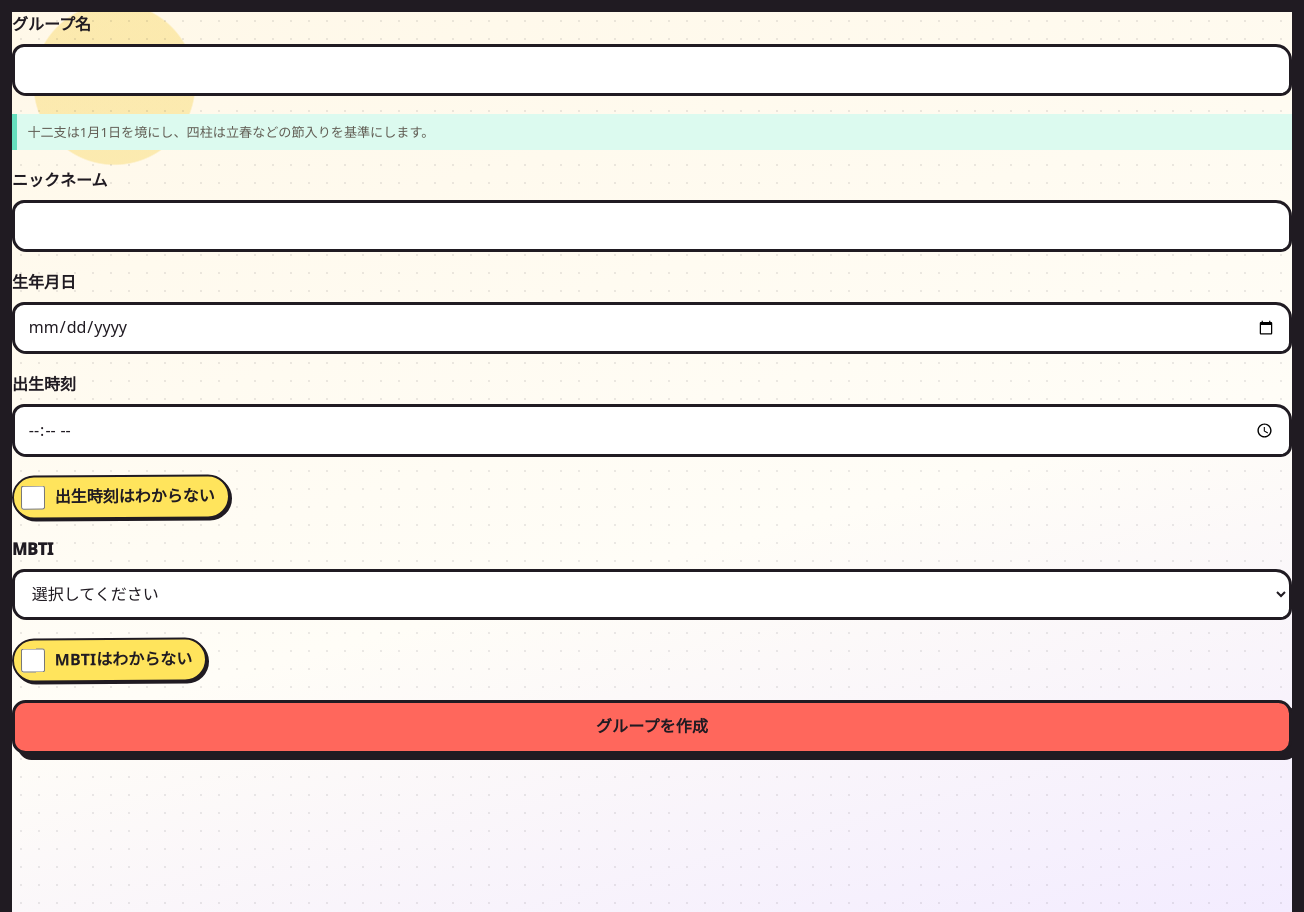
Test: CreateGroupForm › keeps retry data only in React memory after a navigation failure
Type "  なかまたち  " into the field labelled "グループ名" at (652, 70), box [12,44,1292,96]
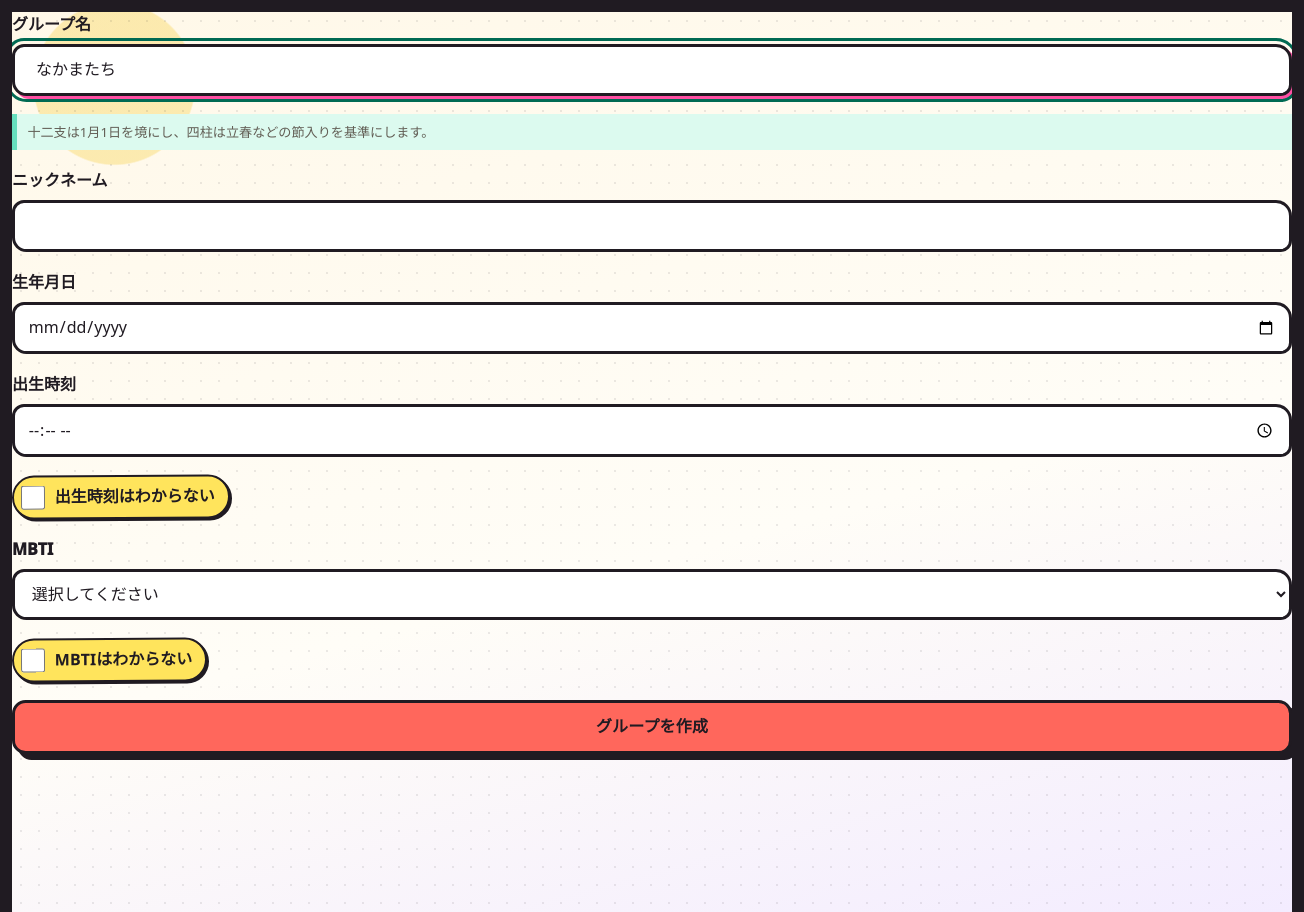
Type "  もふ  " into the field labelled "ニックネーム" at (652, 226), box [12,200,1292,252]
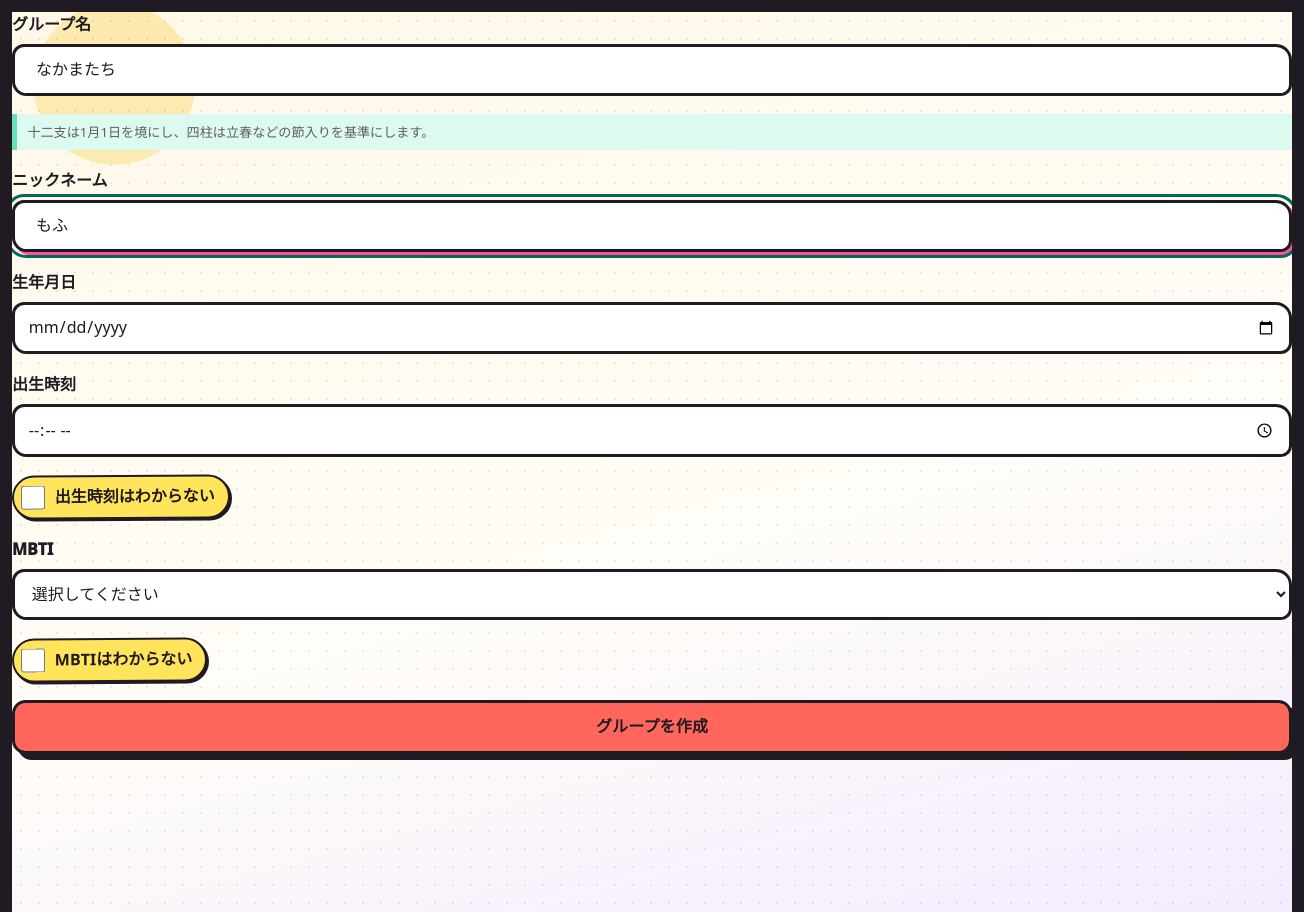
Type "2000-02-29" into the date field labelled "生年月日" at (652, 328), box [12,302,1292,354]
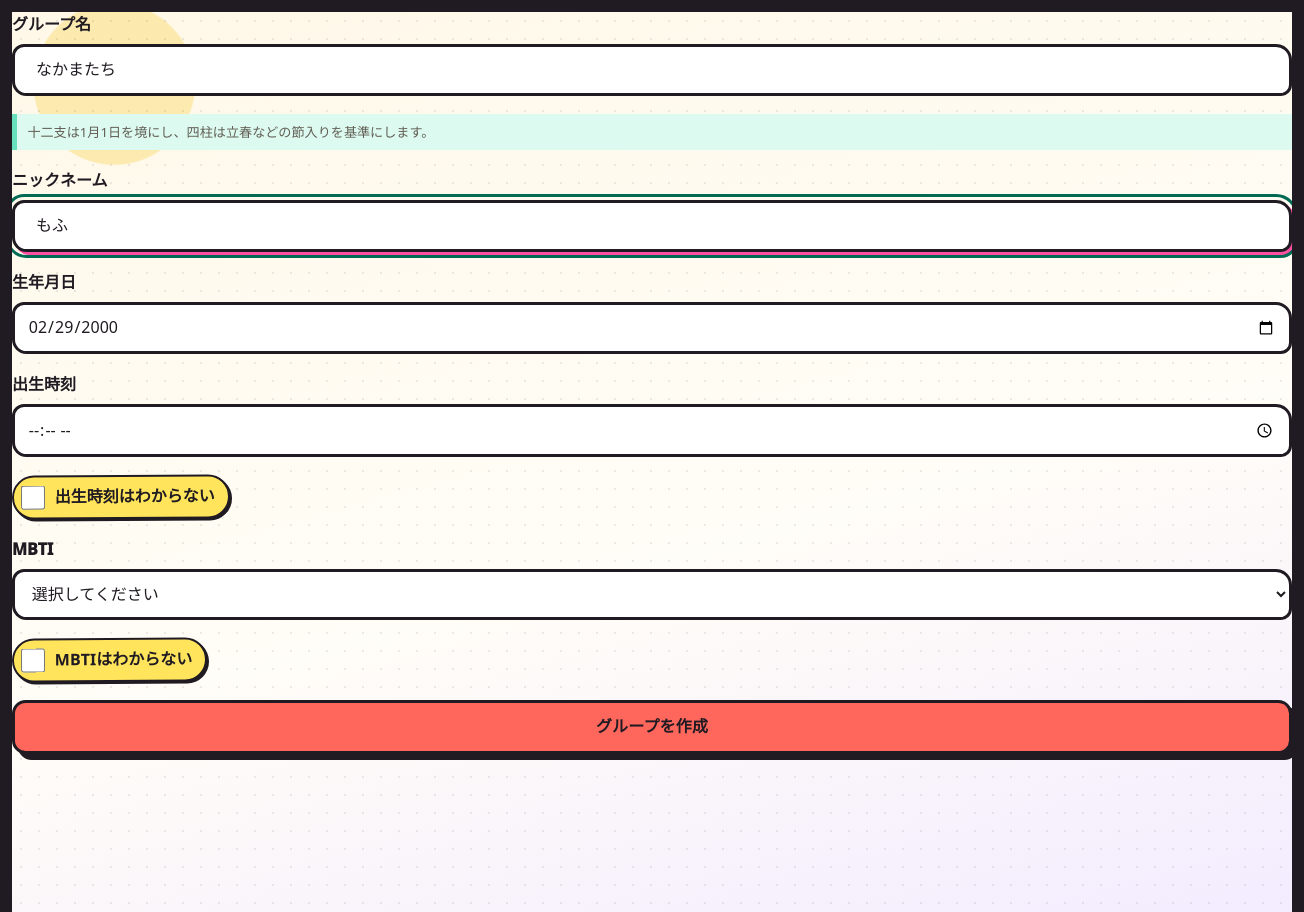
Type "09:05" into the time field labelled "出生時刻" at (652, 431), box [12,404,1292,457]
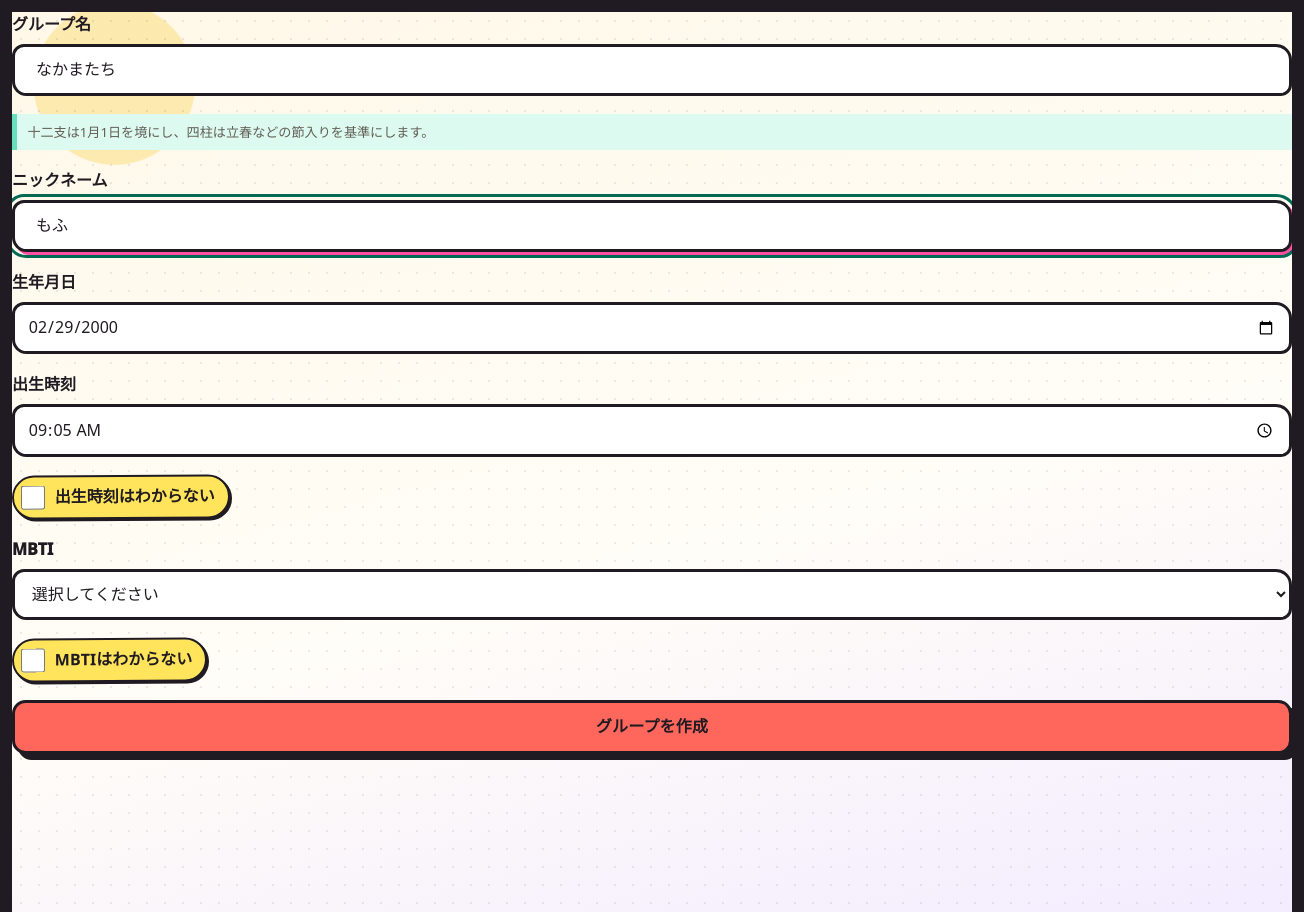
Select "ENFP" in the dropdown labelled "MBTI" at (652, 594), box [12,569,1292,620]
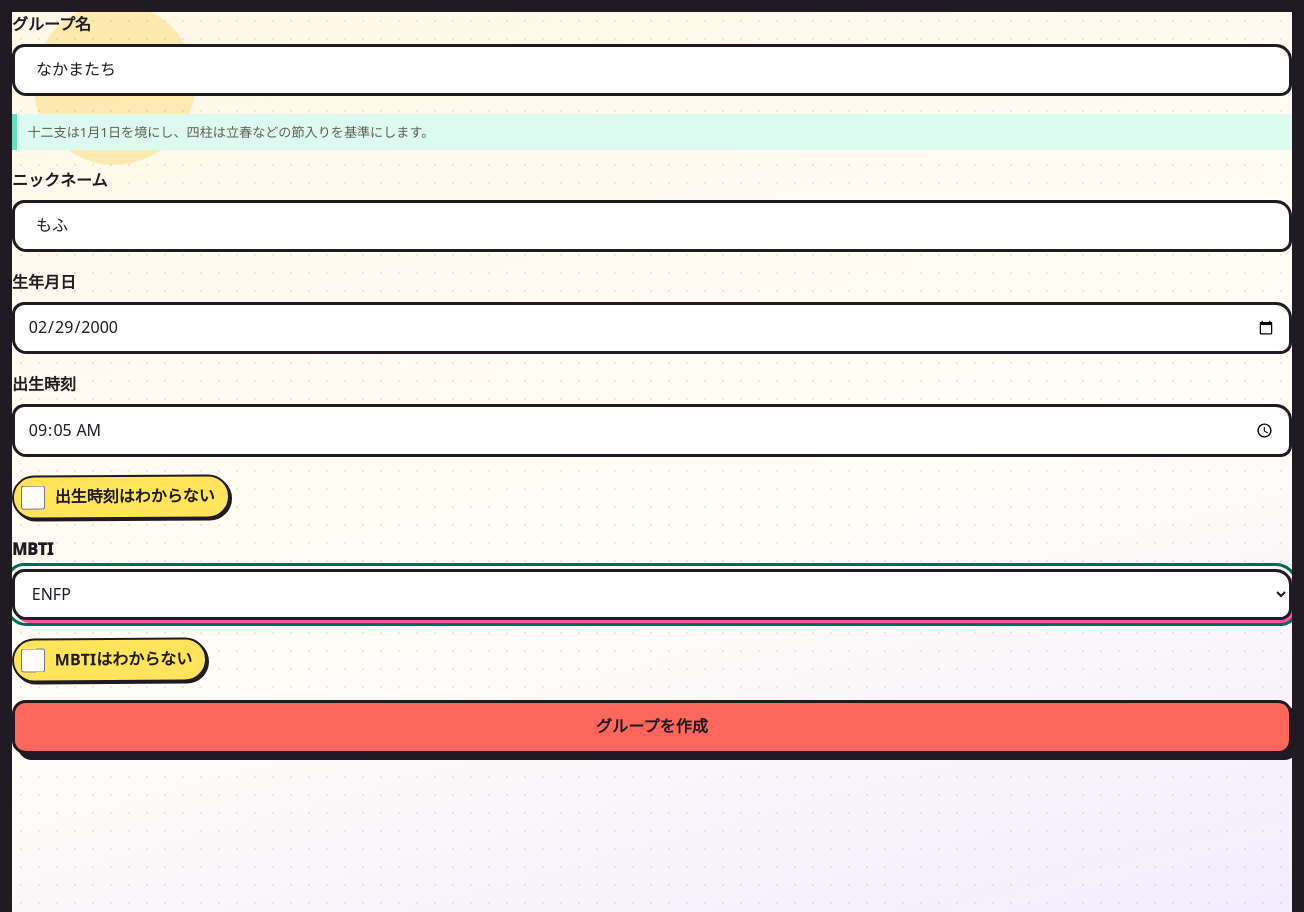
Click the button "グループを作成" at (652, 727), box [12,700,1292,754]
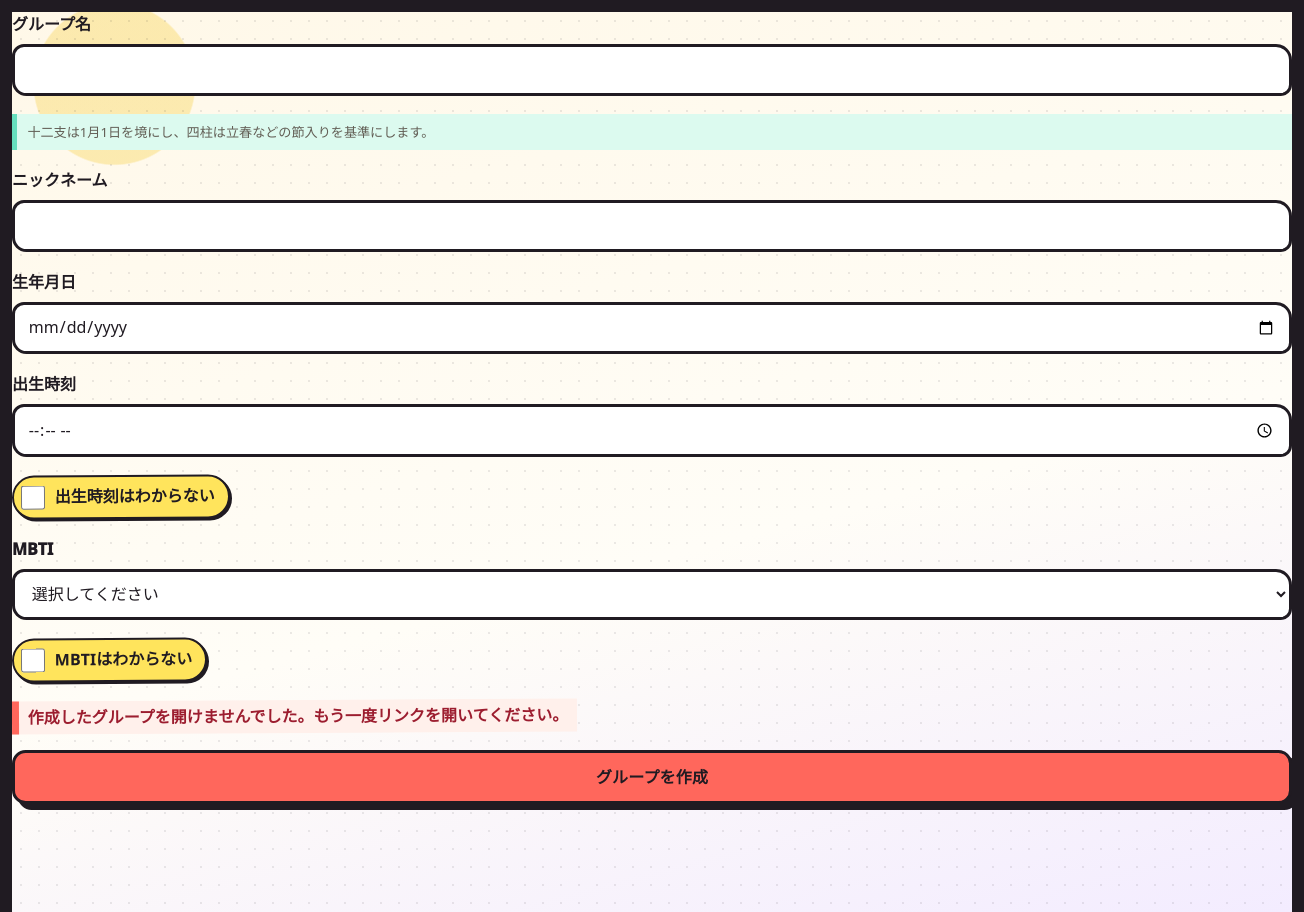
Result: the message reads "作成したグループを開けませんでした。もう一度リンクを開いてください。" at [28,703,568,728]
Result: the date field labelled "生年月日" is empty at [12,302,1292,354]
